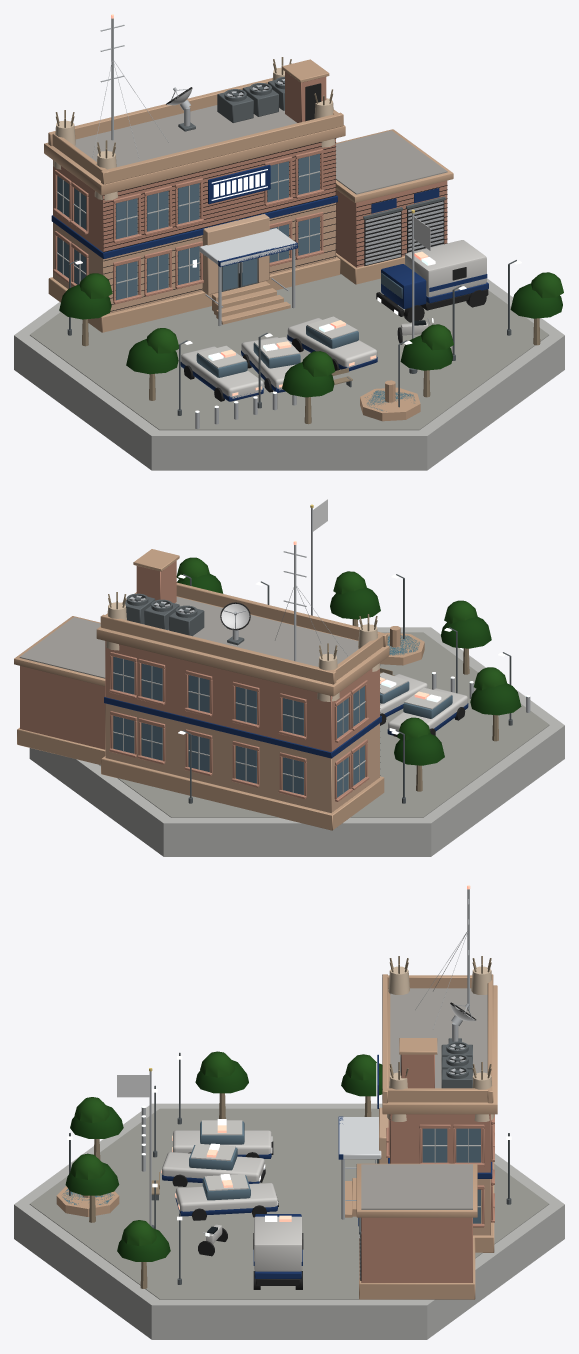
File: policeStation_africa.glb
3 views of the same model, one above another, from view 1: azimuth 30°, elevation 25°; view 2: azimuth 150°, elevation 25°; view 3: azimuth 270°, elevation 25° (orthographic). The views are drawn at different scales.
Visible parts, largest first — view 1: pavers, stone, wall_concrete, brick, paint, glass, gravel, leaf, dark, metal, steel_dark, cladding (+3 smaller); view 2: stone, wall_concrete, brick, pavers, glass, leaf, gravel, paint, steel_dark, metal, plaster, wood; view 3: pavers, wall_concrete, stone, brick, gravel, paint, leaf, glass, steel_dark, metal, plaster, dark (+3 smaller).
Boxes of the visible parts, x1,y1,x2,y2 form: pavers: (30, 274, 548, 430); stone: (44, 59, 453, 421); wall_concrete: (14, 156, 564, 470); brick: (53, 71, 447, 304); paint: (51, 87, 488, 401); glass: (57, 154, 415, 411); gravel: (75, 105, 447, 194); leaf: (59, 272, 563, 397); dark: (103, 81, 488, 401); metal: (92, 18, 443, 428); steel_dark: (67, 76, 516, 415); cladding: (199, 228, 297, 266); stone: (14, 549, 424, 830); wall_concrete: (29, 627, 564, 856); brick: (20, 561, 379, 801); pavers: (99, 632, 549, 817); glass: (113, 635, 452, 797); leaf: (176, 557, 521, 765); gravel: (19, 597, 358, 678); paint: (104, 603, 468, 758); steel_dark: (125, 574, 512, 803); metal: (129, 508, 530, 712); plaster: (106, 602, 379, 701); wood: (108, 592, 498, 791); pavers: (29, 1108, 549, 1299); wall_concrete: (14, 1103, 564, 1339); stone: (56, 974, 497, 1299); brick: (361, 1054, 494, 1282); gravel: (361, 988, 487, 1209); paint: (162, 1003, 492, 1278); leaf: (65, 1051, 382, 1261); glass: (62, 1121, 480, 1223); steel_dark: (69, 1038, 511, 1284); metal: (141, 889, 471, 1279); plaster: (387, 966, 494, 1121); dark: (172, 1002, 476, 1289).
Size of the model in its own units: 21.3 by 15.3 by 24.6.
